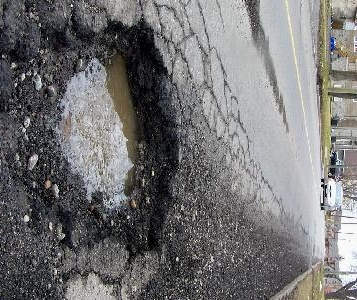pothole: (0, 15, 182, 257)
